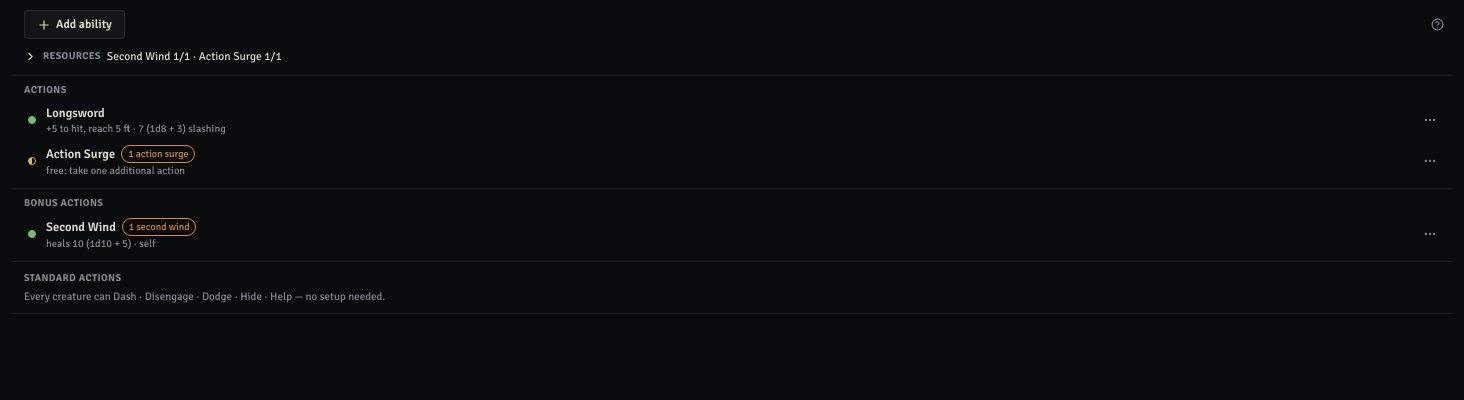
Test: the ability editor's shell › won't save without a name
Click the button with aria-label "Edit Longsword" at coordinates (75, 113), box [42, 100, 1410, 140]
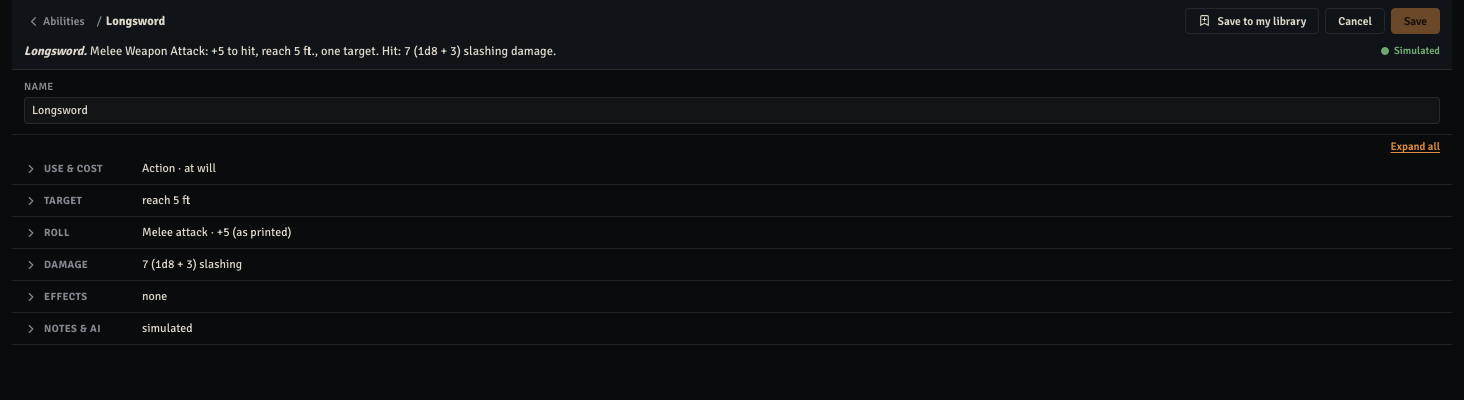
Clear the field labelled "Name" at coordinates (732, 111), box [24, 97, 1440, 124]
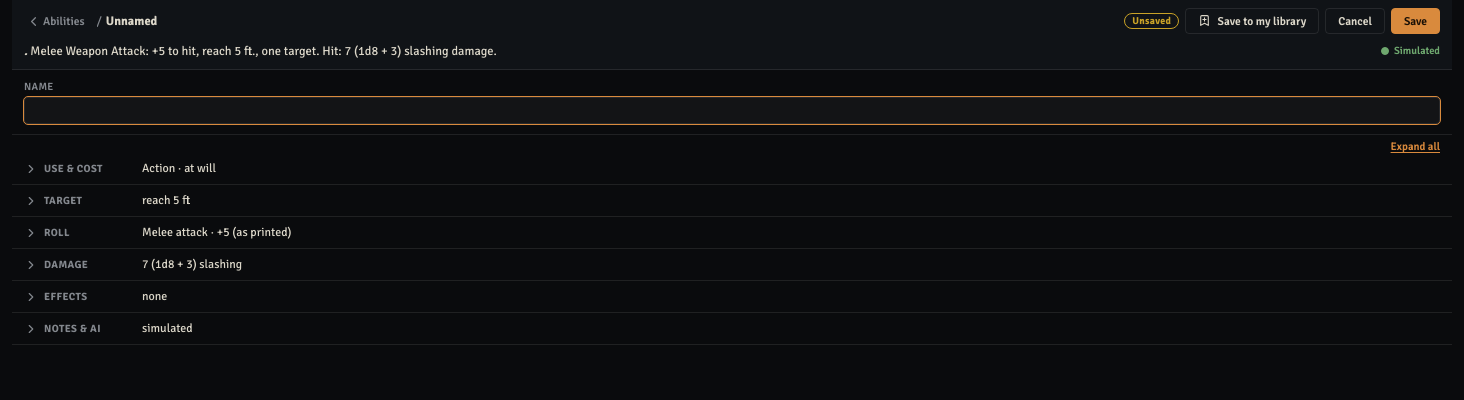
Click the button "Save" at coordinates (1415, 21), box [1391, 8, 1440, 34]
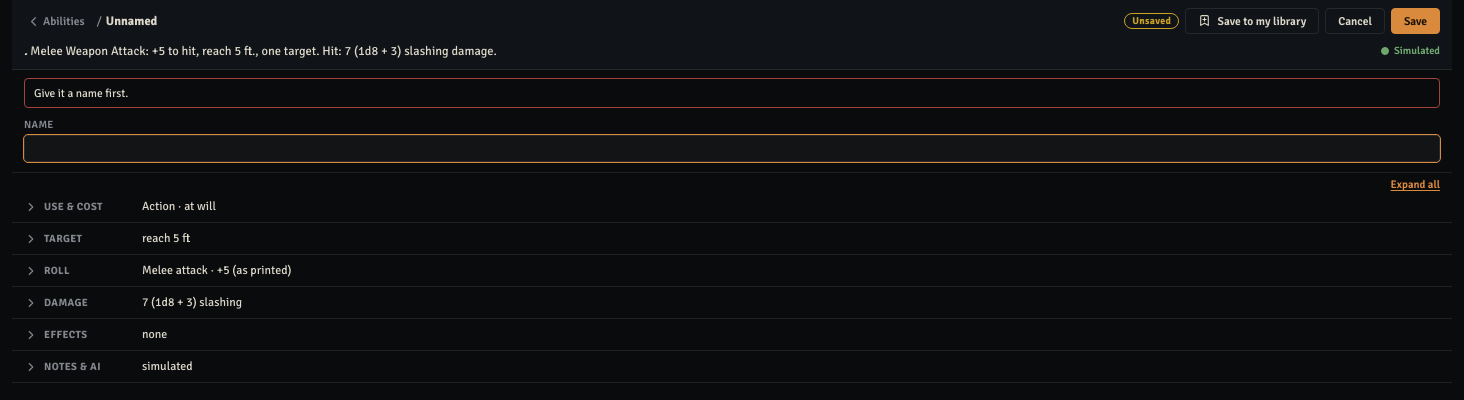
Check: the message reads "Give it a name first.", box [34, 86, 128, 100]
